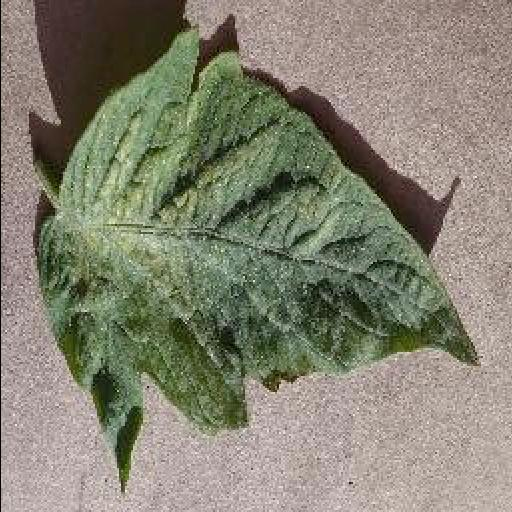disease_tomato: (32, 28, 482, 494)
